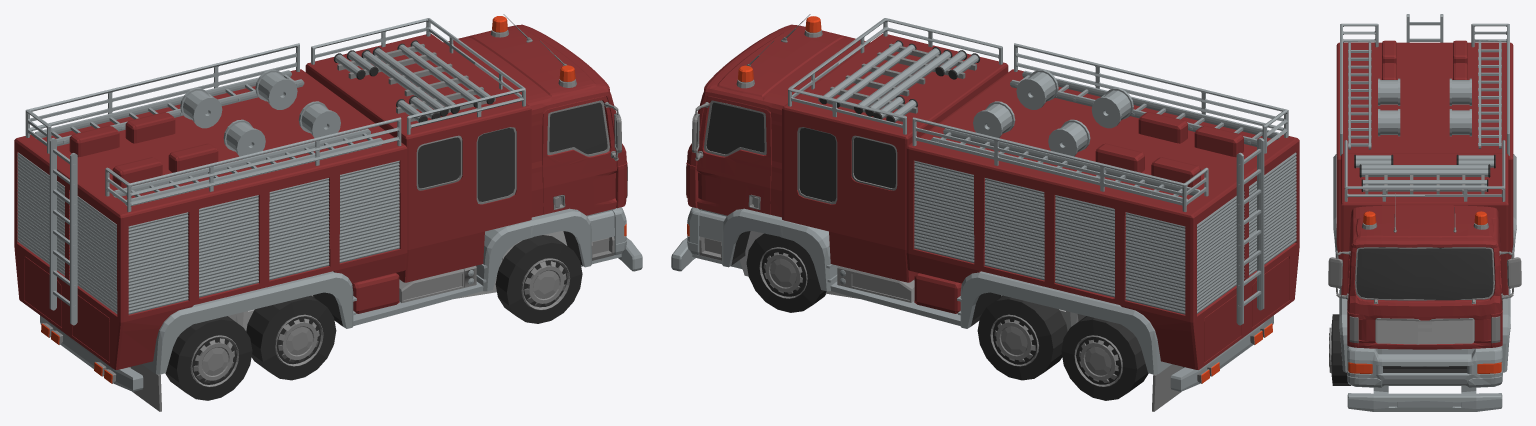
File: FIRETRUCK.glb
The picture shows the model from 3 angles, left to right: view 1: azimuth 30°, elevation 25°; view 2: azimuth 150°, elevation 25°; view 3: azimuth 270°, elevation 25°; orthographic projection. The views are drawn at different scales.
Parts seen in each view (by area): view 1: fire_eu-pipes, body; view 2: fire_eu-pipes, body; view 3: fire_eu-pipes, body.
Part boxes in pixels (x1=…): fire_eu-pipes: x1=17, y1=14, x2=642, y2=411; body: x1=14, y1=24, x2=627, y2=369; fire_eu-pipes: x1=671, y1=14, x2=1296, y2=411; body: x1=686, y1=24, x2=1299, y2=369; fire_eu-pipes: x1=1328, y1=14, x2=1521, y2=411; body: x1=1336, y1=40, x2=1513, y2=349.
Size of the model in its own units: 6.25 by 2.72 by 2.36.
